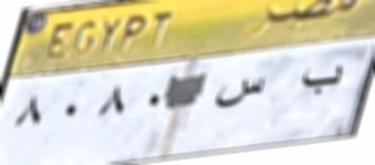0: (60, 93, 84, 124), (144, 85, 164, 119)
8: (13, 92, 50, 133), (97, 84, 129, 126)
baa: (298, 54, 350, 100)
seen: (217, 69, 268, 122)
